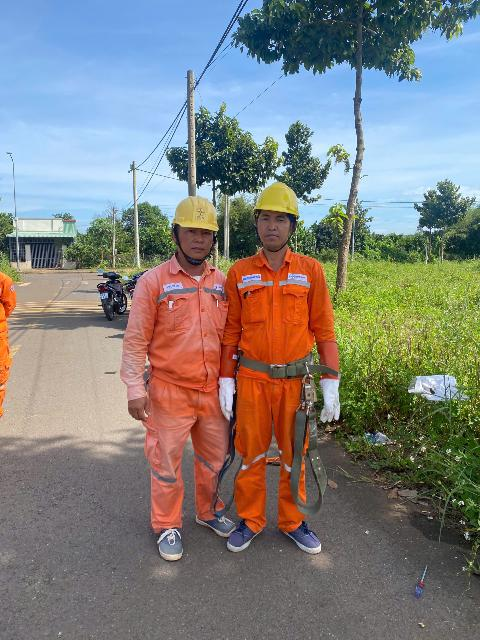gloves: (317, 368, 349, 423), (216, 368, 242, 420)
harness: (225, 338, 321, 391)
helmet: (162, 187, 224, 237), (253, 182, 316, 217)
shoes: (275, 511, 331, 558), (218, 514, 269, 549), (157, 517, 191, 563), (194, 502, 236, 539)
